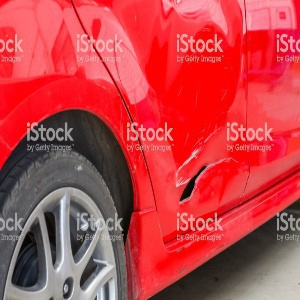door: (162, 153, 256, 204)
